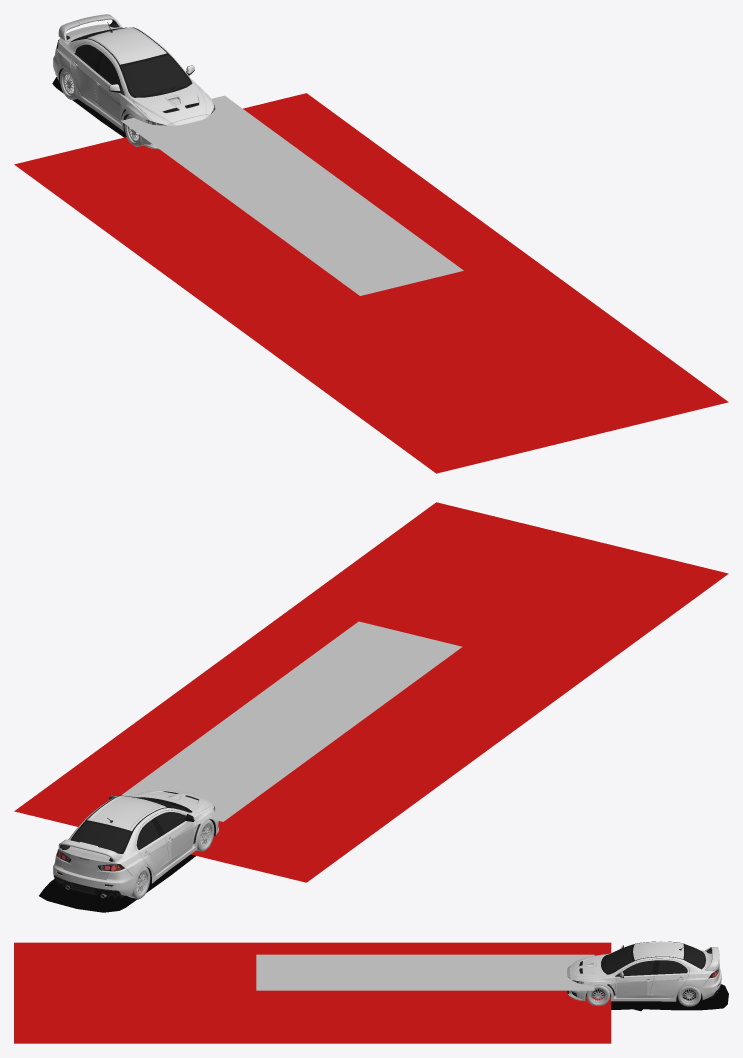
The model's file is car14.fbx.
The picture shows the model from 3 angles, top to bottom: view 1: azimuth 30°, elevation 25°; view 2: azimuth 150°, elevation 25°; view 3: azimuth 270°, elevation 25°; orthographic projection. The views are drawn at different scales.
Parts seen in each view (by area): view 1: light_ground, far_lights, evo_x; view 2: light_ground, far_lights, evo_x, shadow_car; view 3: light_ground, far_lights, evo_x, shadow_car, decalSide, wheel_RL, wheel_FL.
Part boxes in pixels (x1,y1,x2,y2): light_ground: (14,93,728,473); far_lights: (121,95,463,295); evo_x: (53,14,215,149); light_ground: (14,502,728,882); far_lights: (121,621,462,821); evo_x: (53,789,218,898); shadow_car: (39,854,195,912); light_ground: (14,942,611,1043); far_lights: (256,954,594,990); evo_x: (567,941,721,1001); shadow_car: (611,984,728,1011); decalSide: (617,980,647,996); wheel_RL: (677,986,700,1006); wheel_FL: (586,985,609,1005).
Bounding box in the file's own units: 48.66 × 11.07 × 146.
